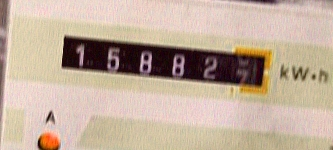1: (74, 42, 90, 68)
2: (203, 54, 221, 80)
5: (106, 44, 124, 72)
7: (236, 66, 252, 86)
8: (138, 49, 157, 77), (171, 52, 189, 78)
screen: (46, 18, 284, 106)
